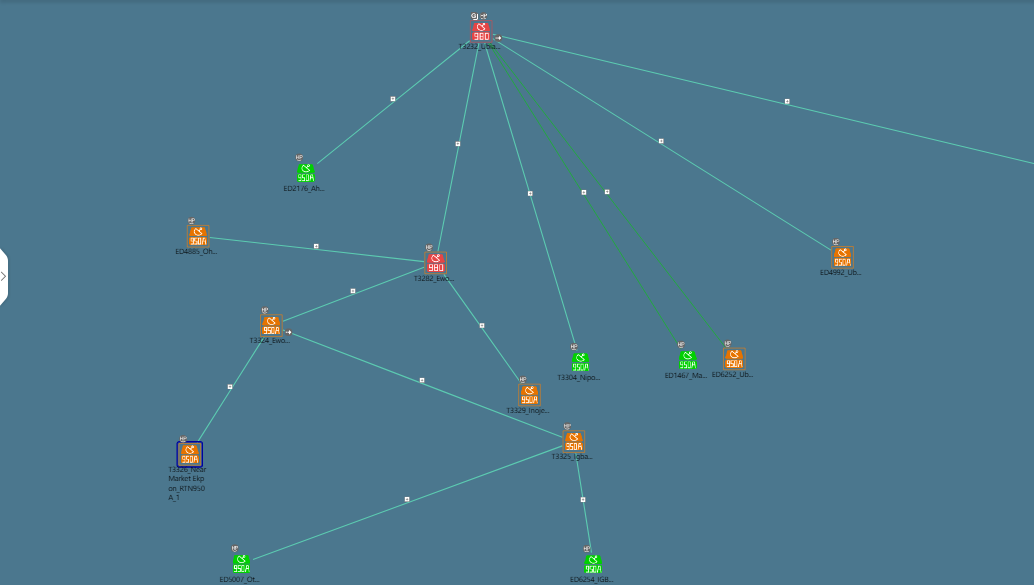Link_Blue: (494, 31, 1029, 162), (507, 44, 822, 244), (255, 444, 553, 556), (289, 328, 553, 431), (481, 44, 572, 341), (313, 37, 473, 162), (443, 276, 525, 385), (281, 263, 422, 326), (436, 44, 477, 239), (197, 335, 267, 435), (241, 238, 417, 268), (572, 451, 596, 559)
Link_Green: (488, 44, 721, 344)
RTN_Green: (229, 554, 254, 578), (675, 354, 700, 372), (294, 166, 318, 184), (585, 554, 601, 578), (572, 354, 588, 370)
RTN_Orange: (178, 444, 202, 469), (262, 315, 286, 339), (520, 386, 544, 410), (184, 225, 207, 249), (721, 347, 743, 372), (565, 431, 583, 456), (830, 250, 855, 268)
RTN_Red: (423, 250, 448, 275), (469, 24, 493, 40)
